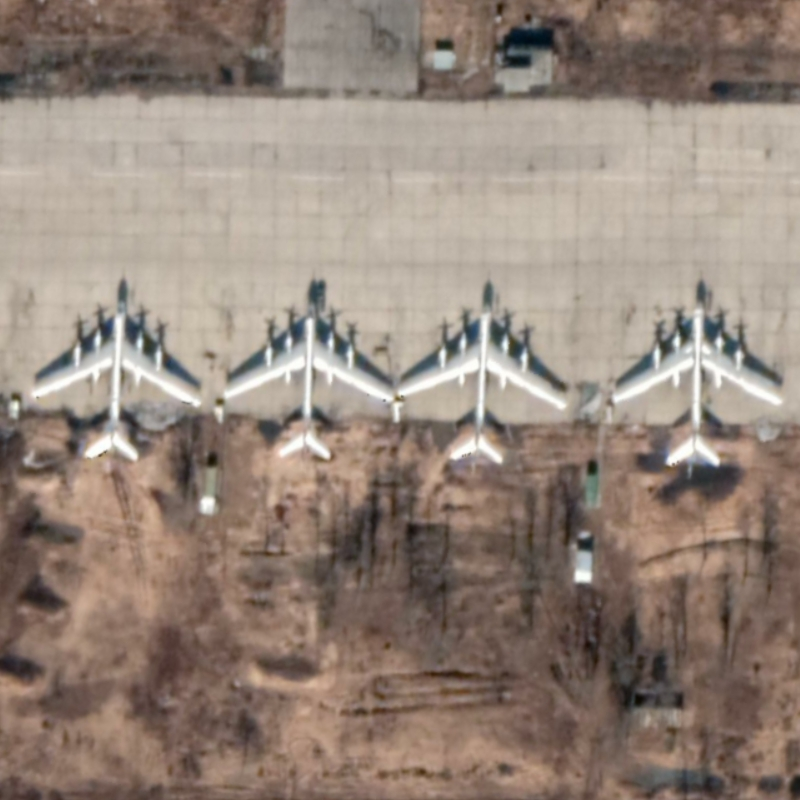A17: (609, 297, 786, 470), (395, 300, 571, 466), (220, 301, 398, 464), (30, 296, 204, 462)
